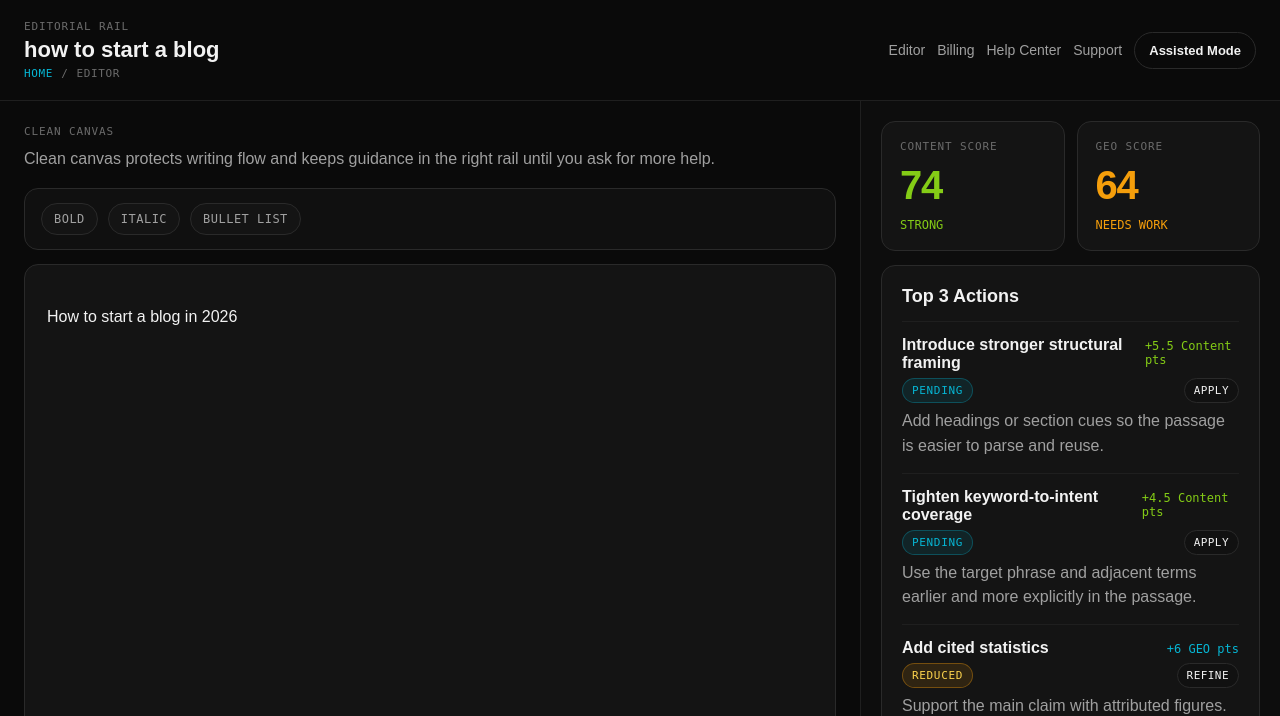
Test: EditorRail › marks structural guidance as completed after the applied scaffold resolves it
The image size is (1280, 716).
Click the button "Assisted Mode" at (1195, 50), box 1134,32 -> 1256,68
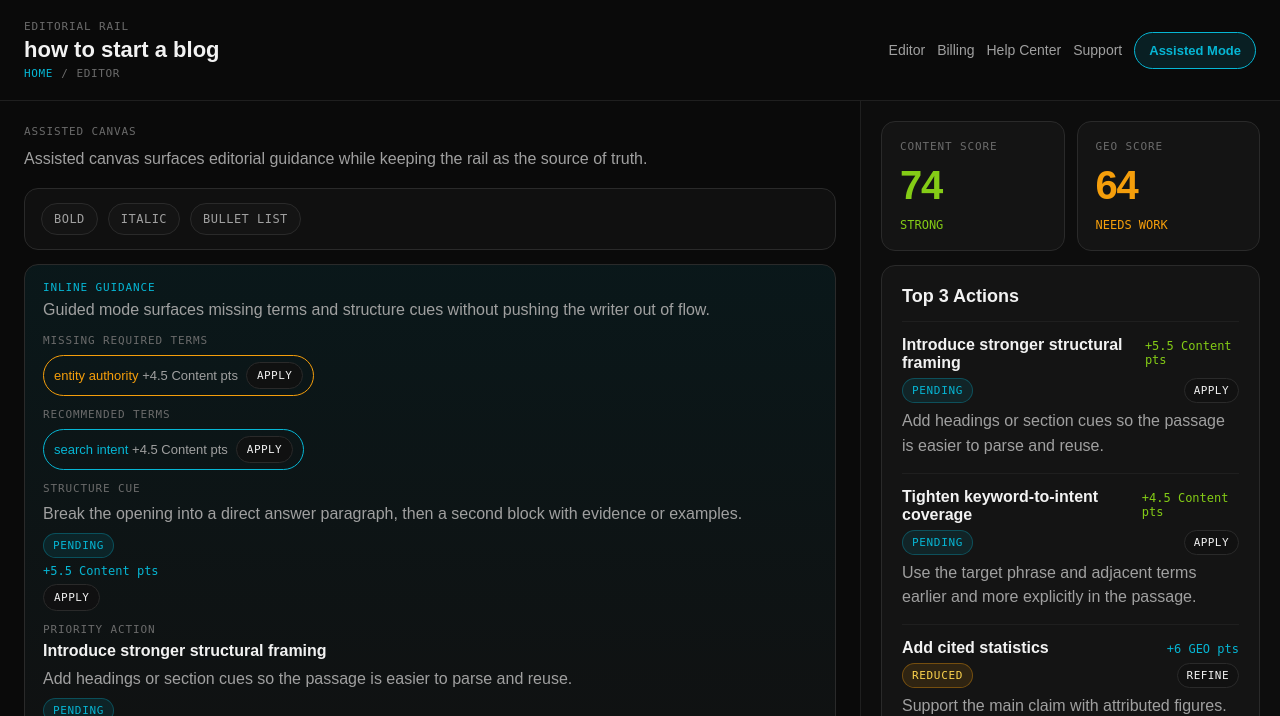
Click the button with aria-label "apply structure cue" at (72, 598), box 43,584 -> 100,611
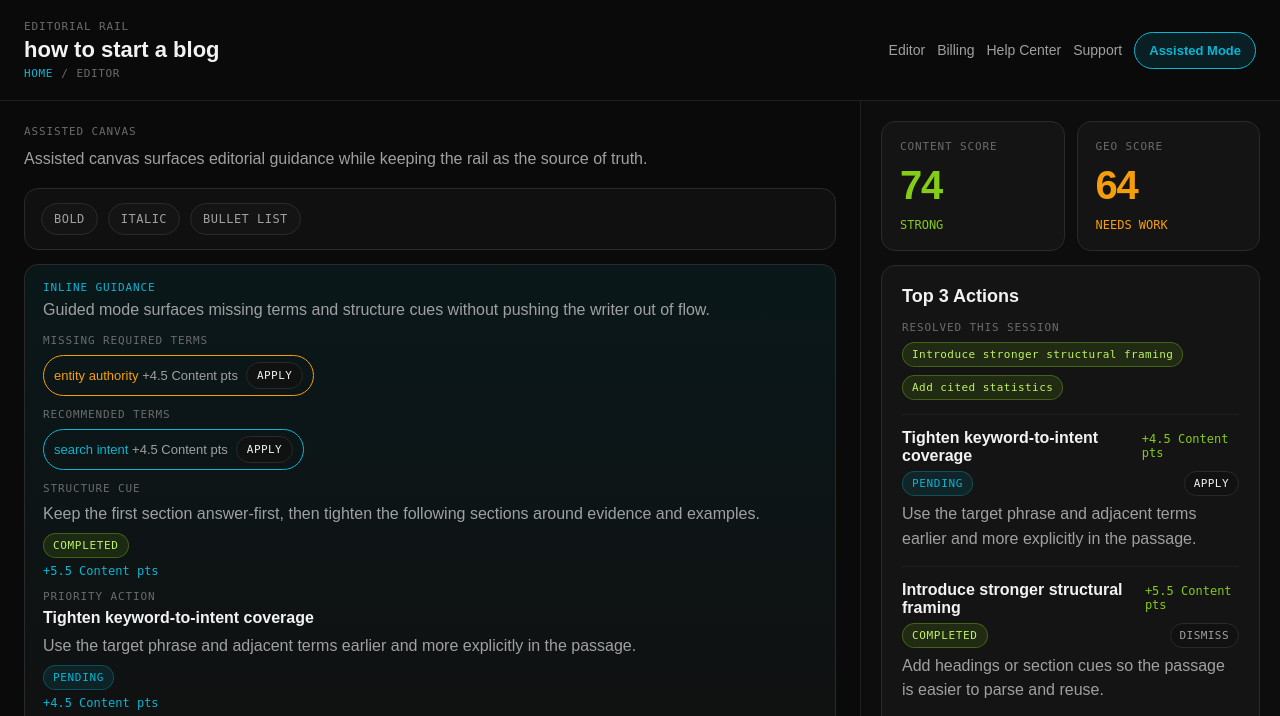
Expected: the text "Completed" below "Recommended Terms" is shown, 53,539 -> 118,552
Expected: the text "Tighten keyword-to-intent coverage" below "Priority Action" is shown, 43,609 -> 314,626
